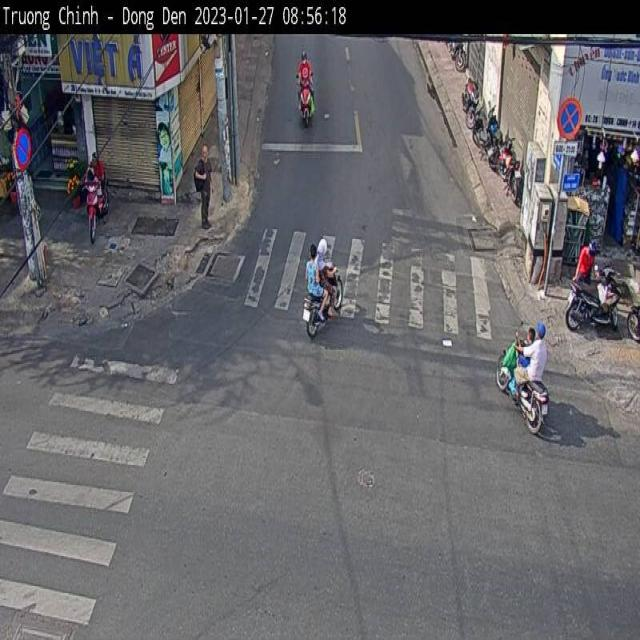with_helmet: (535, 320, 548, 339), (317, 237, 328, 258)
without_helmet: (524, 323, 535, 344), (309, 241, 316, 260)
